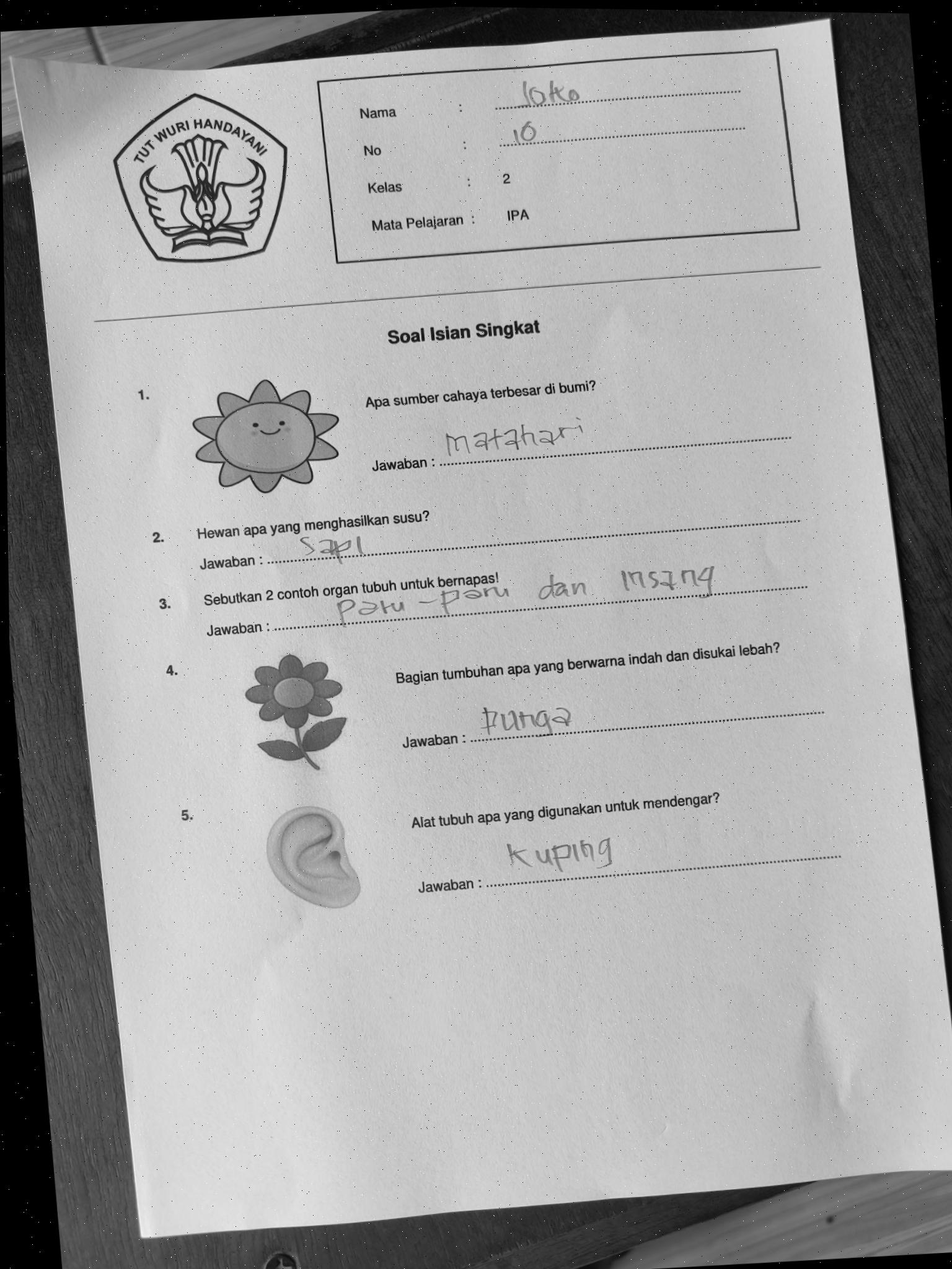soal-1: (134, 332, 807, 514)
soal-2: (142, 464, 816, 590)
soal-3: (150, 536, 824, 651)
soal-4: (157, 608, 841, 789)
soal-5: (165, 735, 854, 935)
